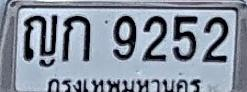2: (202, 15, 228, 62), (142, 15, 167, 61)
5: (172, 14, 197, 62)
9: (113, 15, 136, 60)
A01: (62, 14, 90, 62)
A13: (23, 14, 58, 61)
BKK: (43, 75, 209, 92)
